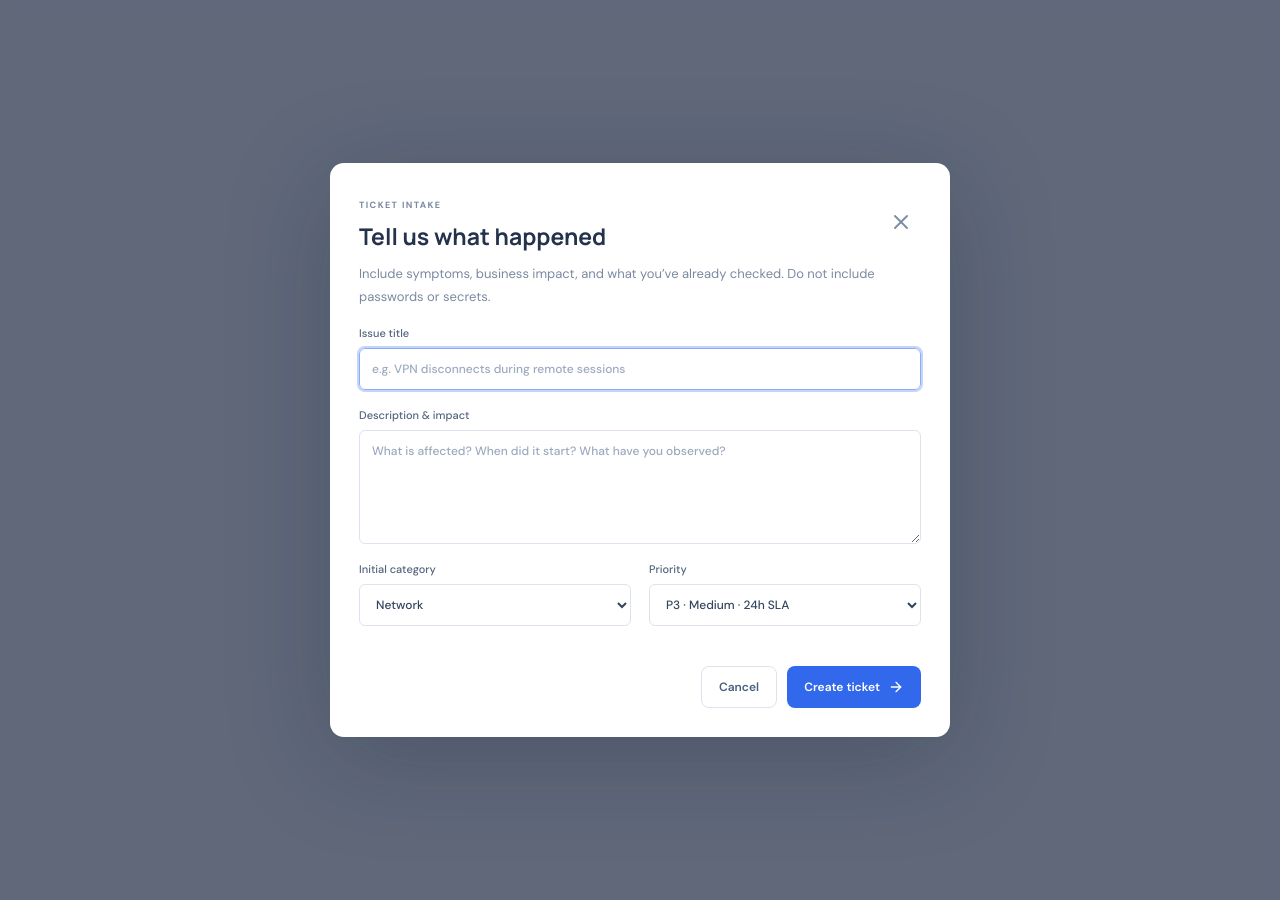
it: Ticket submission › preserves input and exposes save failures
The image size is (1280, 900).
Type "Printer unavailable" into the field labelled "Issue title" at (640, 369), box [359,348,921,390]
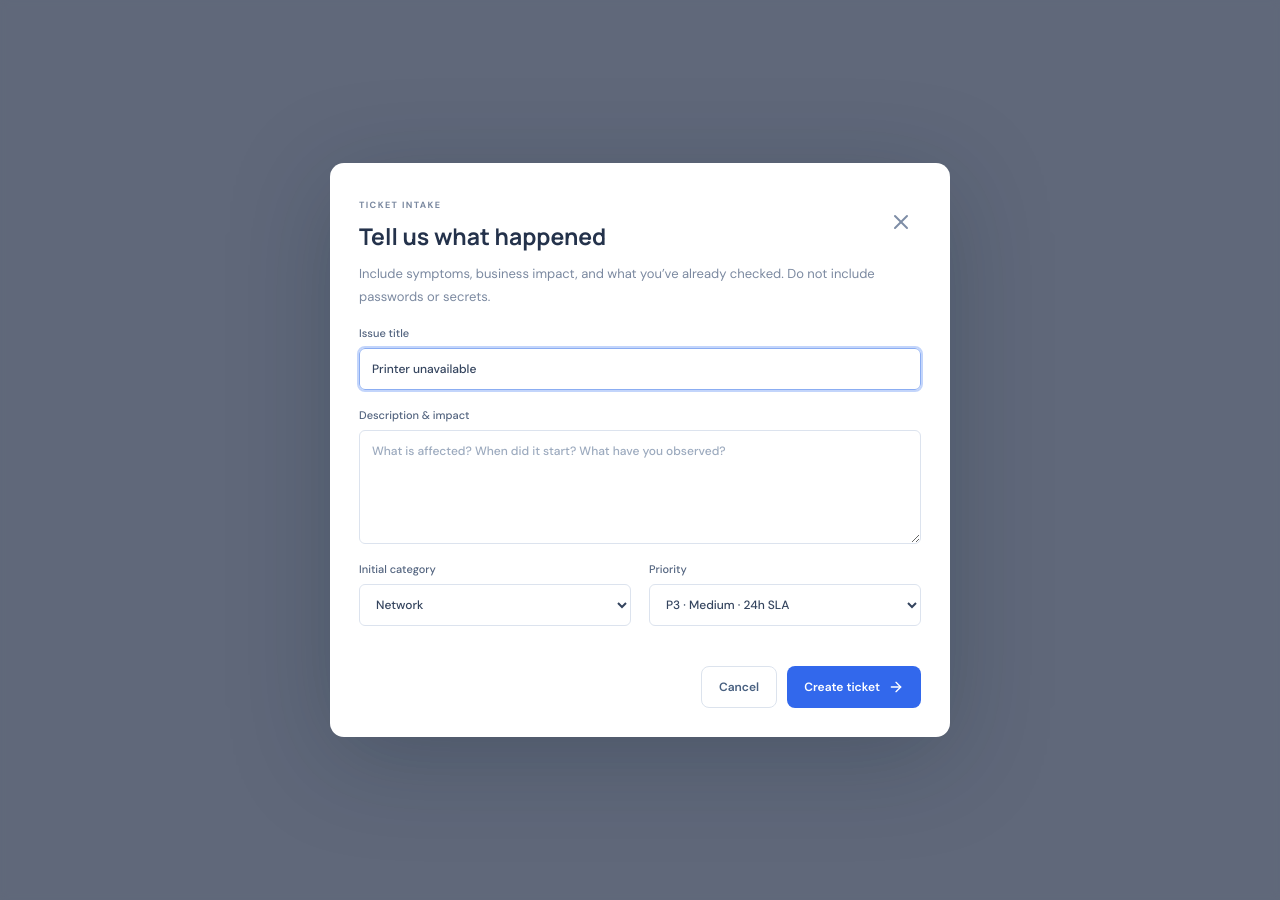
Type "The shared printer has been offline since this morning." into the text box labelled "Description & impact" at (640, 487), box [359,430,921,544]
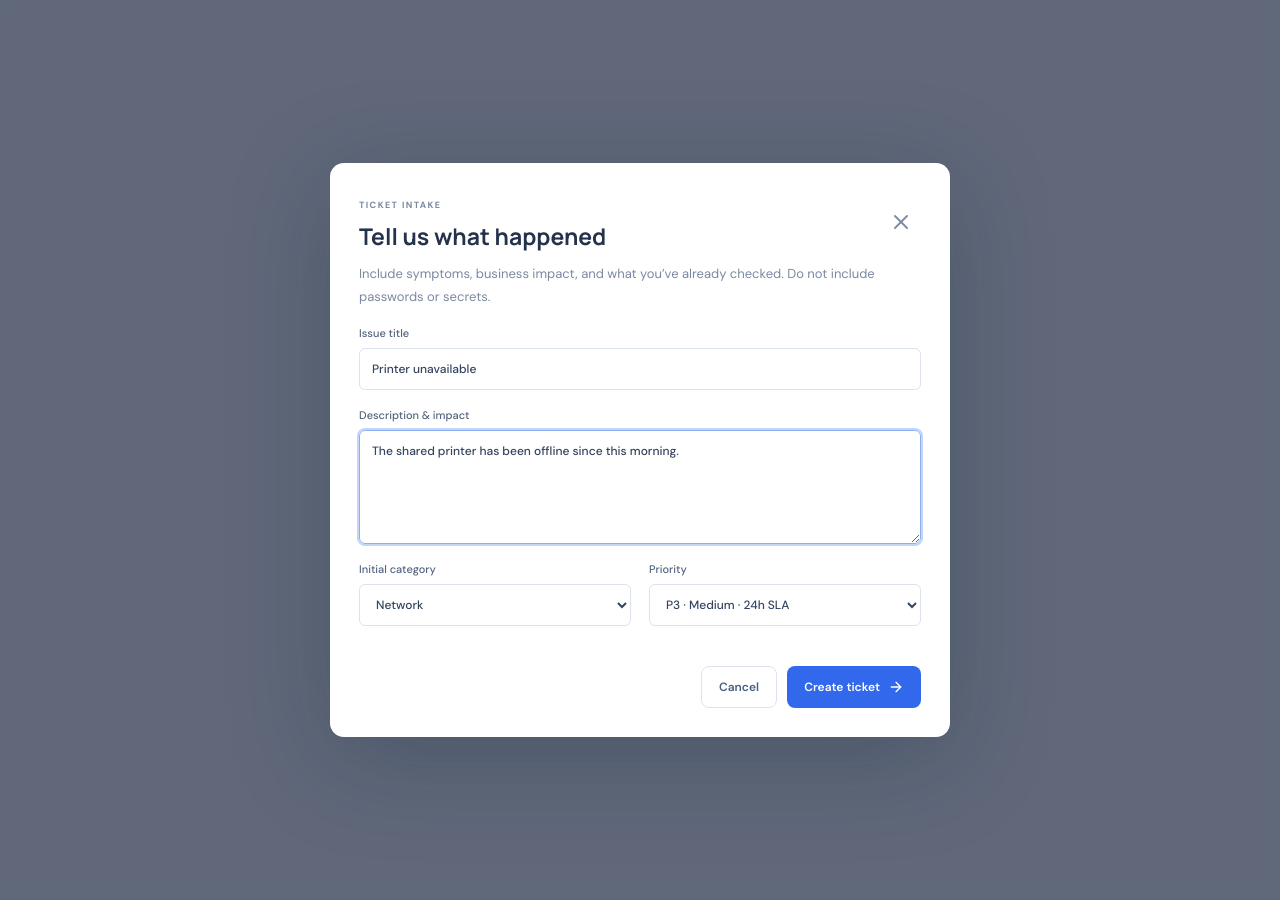
Click the button "Create ticket" at (854, 687), box [787,666,921,708]
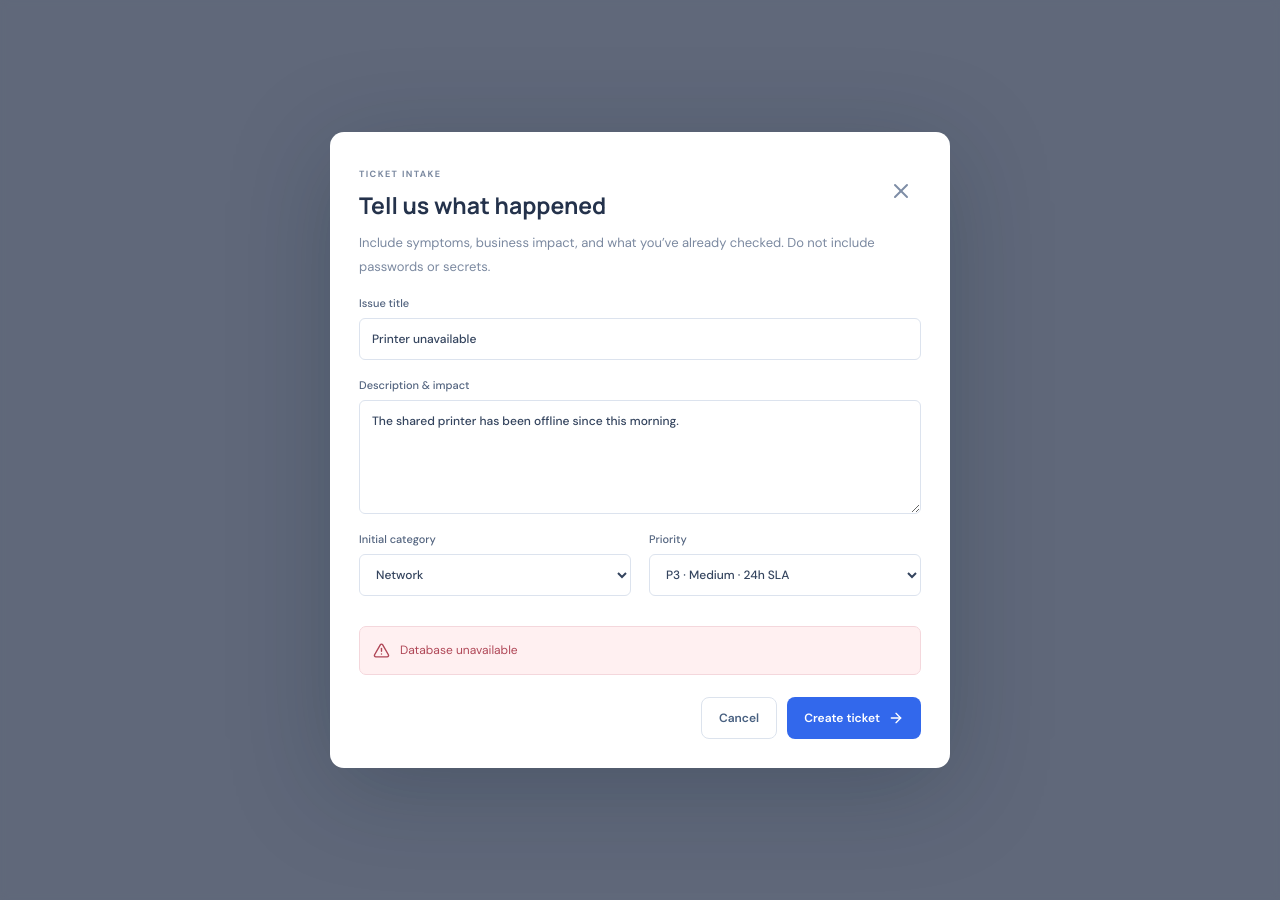
Check: the message reads "Database unavailable", box [400,642,518,658]
